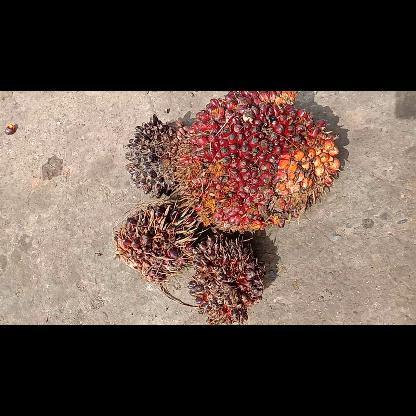TBS abnormal: (110, 198, 200, 286), (188, 232, 266, 324), (123, 112, 191, 198)
TBS masak: (171, 91, 343, 233)
